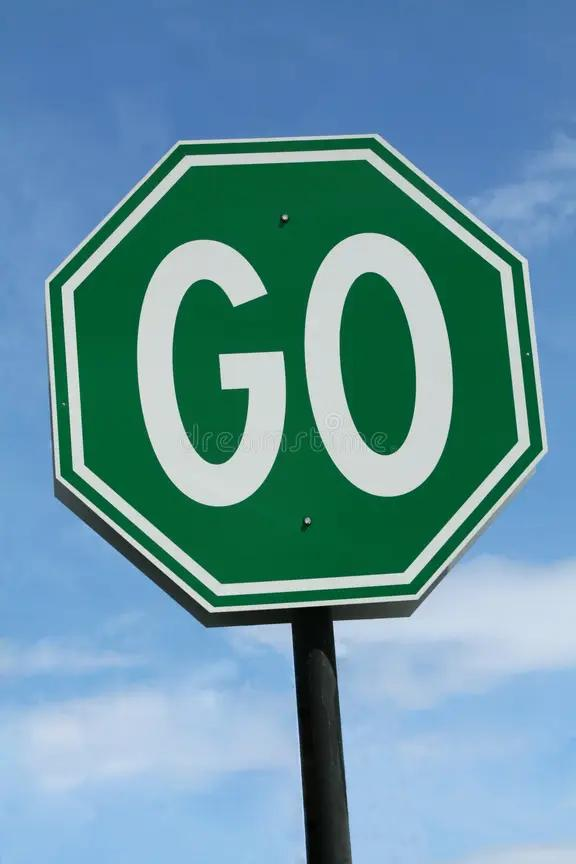Go: (71, 141, 535, 599)
